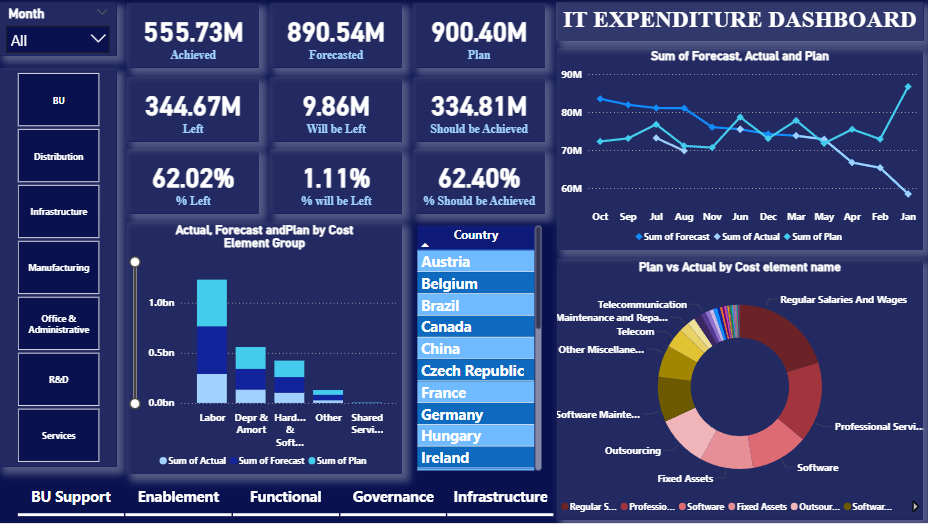

This screenshot's page, from the dashboard's own definition file:
{"tool":"powerbi","page":{"name":"Dashboard","canvas":[1280,720],"ordinal":0},"visuals":[{"type":"textbox","box":[766.6,2.8,506.5,53.7],"z":0},{"type":"slicer","fields":{"Values":["Data.IT Area"]},"box":[0,652.4,787.3,64.7],"z":1000},{"type":"slicer","fields":{"Values":["Data.Date"]},"box":[0,2.8,162.4,74.3],"z":2000},{"type":"card","fields":{"Values":["Sum(Data.Actual)"]},"box":[176.2,4.1,181.7,89.5],"z":3000},{"type":"card","fields":{"Values":["Sum(Data.Forecast)"]},"box":[373,4.1,181.7,89.5],"z":4000},{"type":"card","fields":{"Values":["Sum(Data.Plan)"]},"box":[569.8,4.1,181.7,89.5],"z":5000},{"type":"card","fields":{"Values":["Data.Plan vs Actual"]},"box":[176.2,106,181.7,89.5],"z":6000},{"type":"card","fields":{"Values":["Data.Plan vs Forecast"]},"box":[373,106,181.7,89.5],"z":7000},{"type":"card","fields":{"Values":["Data.Actual vs Forecast"]},"box":[569.8,106,181.7,89.5],"z":8000},{"type":"slicer","fields":{"Values":["Data.Business Area"]},"box":[0,93.6,162.4,549.2],"z":9000},{"type":"donutChart","fields":{"Category":["Data.Cost element name"],"Y":["Data.Plan vs Actual"]},"box":[768,356.5,503.7,359.2],"z":10000},{"type":"lineChart","title":"Sum of Forecast, Actual and Plan","fields":{"Category":["Data.Date"],"Y":["Sum(Data.Forecast)","Sum(Data.Actual)","Sum(Data.Plan)"]},"box":[768,66.1,503.7,278],"z":11000},{"type":"tableEx","fields":{"Values":["Data.Country"]},"box":[569.8,305.5,181.7,346.8],"z":12000},{"type":"card","fields":{"Values":["Data.Plan vs Actual %"]},"box":[176.2,205.1,181.7,89.5],"z":13000},{"type":"card","fields":{"Values":["Data.Plan vs Forcast %"]},"box":[373,205.1,181.7,89.5],"z":14000},{"type":"card","fields":{"Values":["Data.Actual vs Forecast %"]},"box":[569.8,205.1,181.7,89.5],"z":15000},{"type":"columnChart","title":"Actual, Forecast andPlan by Cost Element Group","fields":{"Category":["Data.Cost Element Group"],"Y":["Sum(Data.Actual)","Sum(Data.Forecast)","Sum(Data.Plan)"]},"box":[175.7,305.7,378.6,347.1],"z":16000}]}

Visuals, with their boxes in screenshot pixels (x1, y1, x2, y2), scaled from the page's 1280x720 canvas onto the 928x524 screenshot:
textbox: detection(556, 2, 923, 41)
slicer - Data.IT Area: detection(0, 475, 571, 522)
slicer - Data.Date: detection(0, 2, 118, 56)
card - Sum(Data.Actual): detection(128, 3, 259, 68)
card - Sum(Data.Forecast): detection(270, 3, 402, 68)
card - Sum(Data.Plan): detection(413, 3, 545, 68)
card - Data.Plan vs Actual: detection(128, 77, 259, 142)
card - Data.Plan vs Forecast: detection(270, 77, 402, 142)
card - Data.Actual vs Forecast: detection(413, 77, 545, 142)
slicer - Data.Business Area: detection(0, 68, 118, 468)
donutChart - Data.Cost element name x Data.Plan vs Actual: detection(557, 259, 922, 521)
"Sum of Forecast, Actual and Plan" lineChart: detection(557, 48, 922, 250)
tableEx - Data.Country: detection(413, 222, 545, 475)
card - Data.Plan vs Actual %: detection(128, 149, 259, 214)
card - Data.Plan vs Forcast %: detection(270, 149, 402, 214)
card - Data.Actual vs Forecast %: detection(413, 149, 545, 214)
"Actual, Forecast andPlan by Cost Element Group" columnChart: detection(127, 222, 402, 475)
